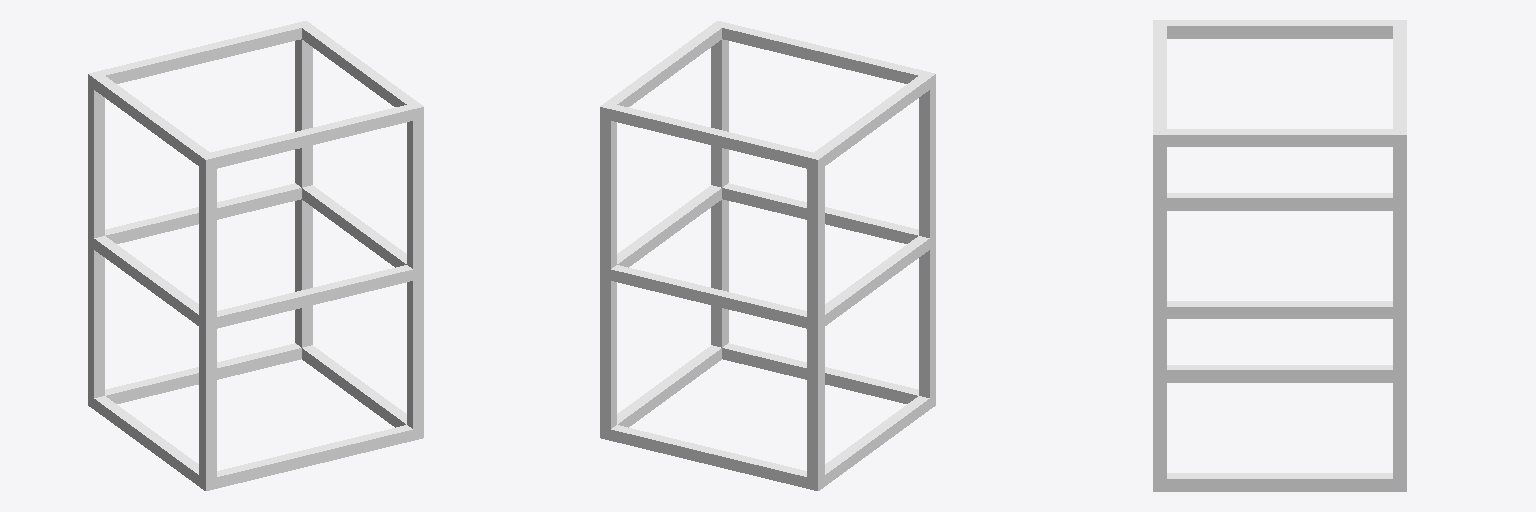
URDF robot description (GUIZI2_urdf):
<?xml version="1.0" encoding="utf-8"?>

<robot
  name="GUIZI2_urdf">
  <link
    name="base_link">
    <inertial>
      <origin
        xyz="-1.6653E-16 2.1094E-15 0.435"
        rpy="0 0 0" />
      <mass
        value="8.748" />
      <inertia
        ixx="1.3398"
        ixy="-1.9187E-15"
        ixz="-2.4083E-15"
        iyy="1.4034"
        iyz="-1.0164E-15"
        izz="1.0264" />
    </inertial>
    <visual>
      <origin
        xyz="0 0 0"
        rpy="0 0 0" />
      <geometry>
        <mesh
          filename="package://GUIZI2_urdf/meshes/base_link.STL" />
      </geometry>
      <material
        name="">
        <color
          rgba="1 1 1 1" />
      </material>
    </visual>
    <collision>
      <origin
        xyz="0 0 0"
        rpy="0 0 0" />
      <geometry>
        <mesh
          filename="package://GUIZI2_urdf/meshes/base_link.STL" />
      </geometry>
    </collision>
  </link>

    <gazebo reference="base_link">
        <material>Gazebo/urGrey</material>
    </gazebo>

</robot>

--- Render facts (derived) ---
Views: 3 orthographic renders of the robot side by side, from view 1: azimuth 30°, elevation 25°; view 2: azimuth 150°, elevation 25°; view 3: azimuth 270°, elevation 25°.
Robot: GUIZI2_urdf — 1 links, 0 joints (none); root link base_link; default pose: every joint at zero.
Links seen in each view (by area): view 1: base_link; view 2: base_link; view 3: base_link.
Link boxes in pixels (bbox=[...]): base_link: bbox=[88, 21, 423, 490]; base_link: bbox=[600, 21, 935, 490]; base_link: bbox=[1153, 20, 1406, 491].
Size in the robot's own frame: 0.6 by 0.56 by 0.87 metres.
1 mesh visuals loaded from 1 distinct referenced files (1 binary STL).